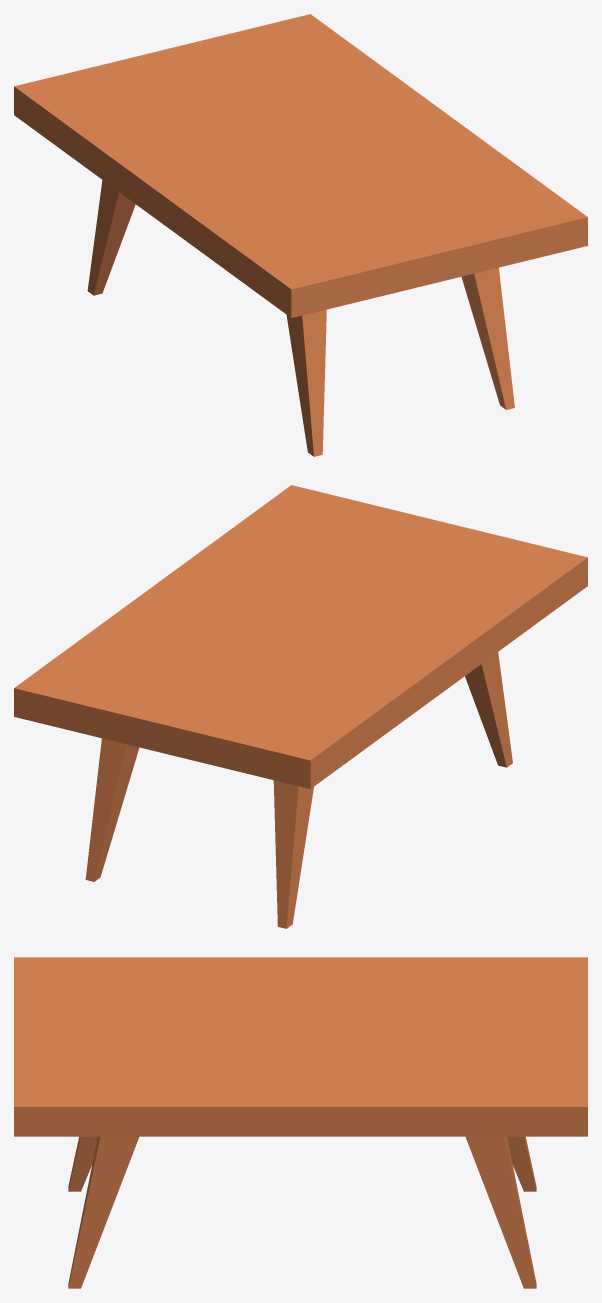
File: стол.fbx
The picture shows the model from 3 angles, top to bottom: view 1: azimuth 30°, elevation 25°; view 2: azimuth 150°, elevation 25°; view 3: azimuth 270°, elevation 25°; orthographic projection. The views are drawn at different scales.
Visible parts, largest first — view 1: Куб; view 2: Куб; view 3: Куб.
Part boxes in pixels (x1,y1,x2,y2): Куб: (14, 14, 587, 456); Куб: (14, 485, 587, 928); Куб: (14, 957, 587, 1288).
Size of the model in its own units: 267 by 171 by 433.
